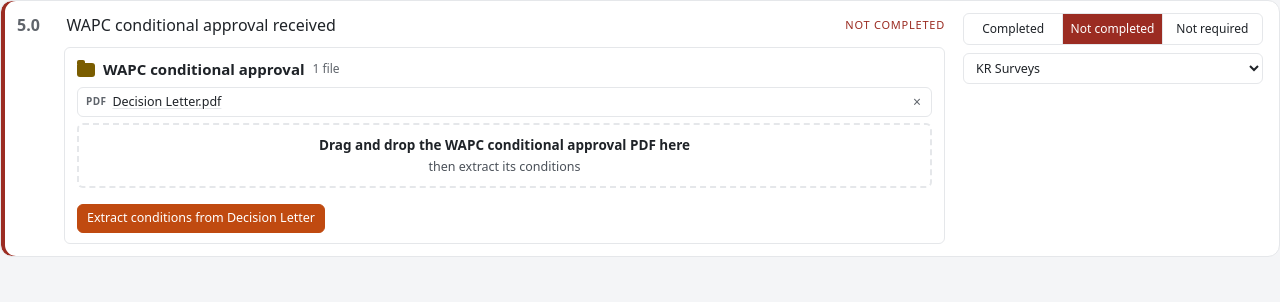
Test: conditions panel: the folder and the extraction › says the PDF could not be read when the extraction fails
Step 1. Click the button "Extract conditions from Decision Letter" → (201,219), box [77, 204, 325, 233]
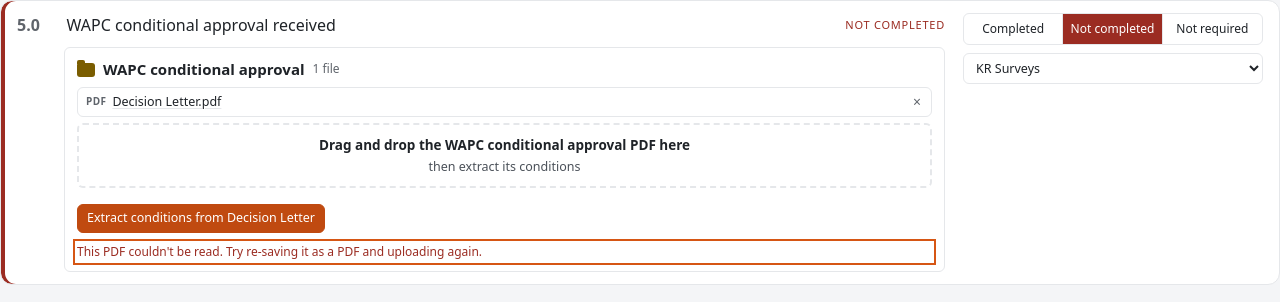
Result: the text "This PDF couldn't be read. Try re-saving it as a PDF and uploading again." is shown at [77, 243, 482, 260]
